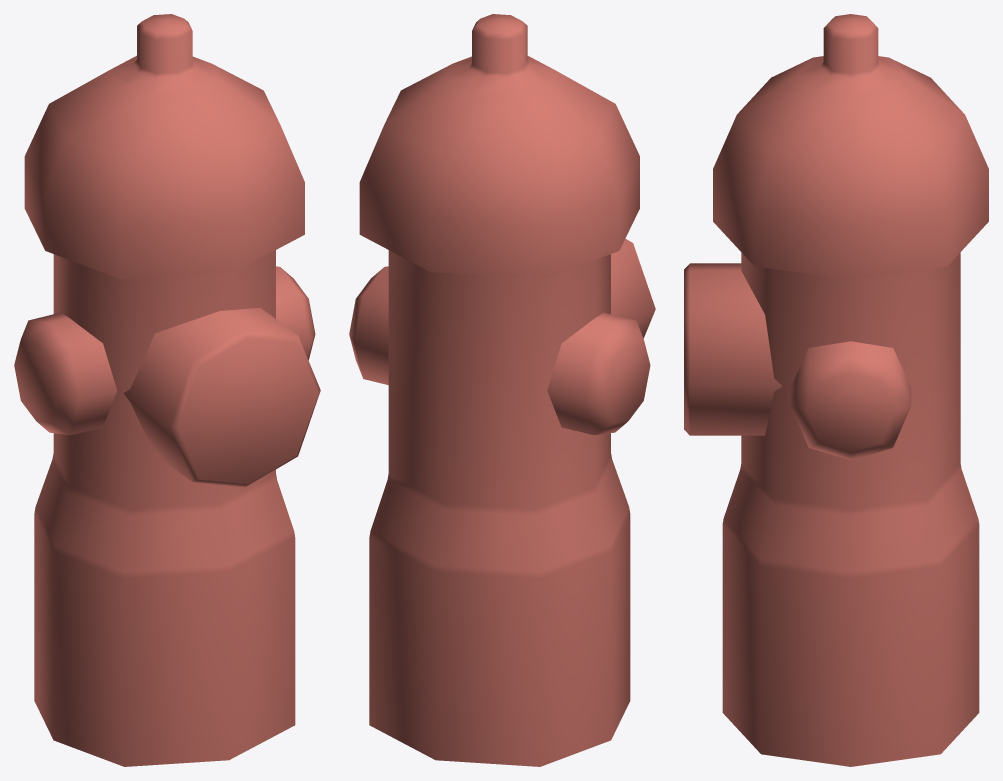
The model's file is FireHydrant.fbx.
3 renders of one model, left to right at view 1: azimuth 30°, elevation 25°; view 2: azimuth 150°, elevation 25°; view 3: azimuth 270°, elevation 25°, orthographic.
Visible parts, largest first — view 1: Plane.064; view 2: Plane.064; view 3: Plane.064.
Boxes of the visible parts, x1=… form: Plane.064: x1=14, y1=14, x2=320, y2=766; Plane.064: x1=349, y1=14, x2=655, y2=766; Plane.064: x1=684, y1=14, x2=988, y2=766.
Size of the model in its own units: 24.74 by 63.56 by 25.38.
